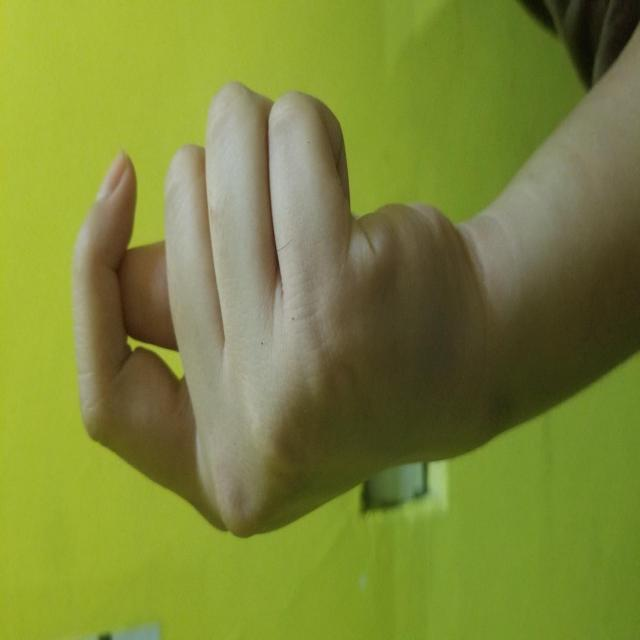T: (100, 71, 567, 482)
